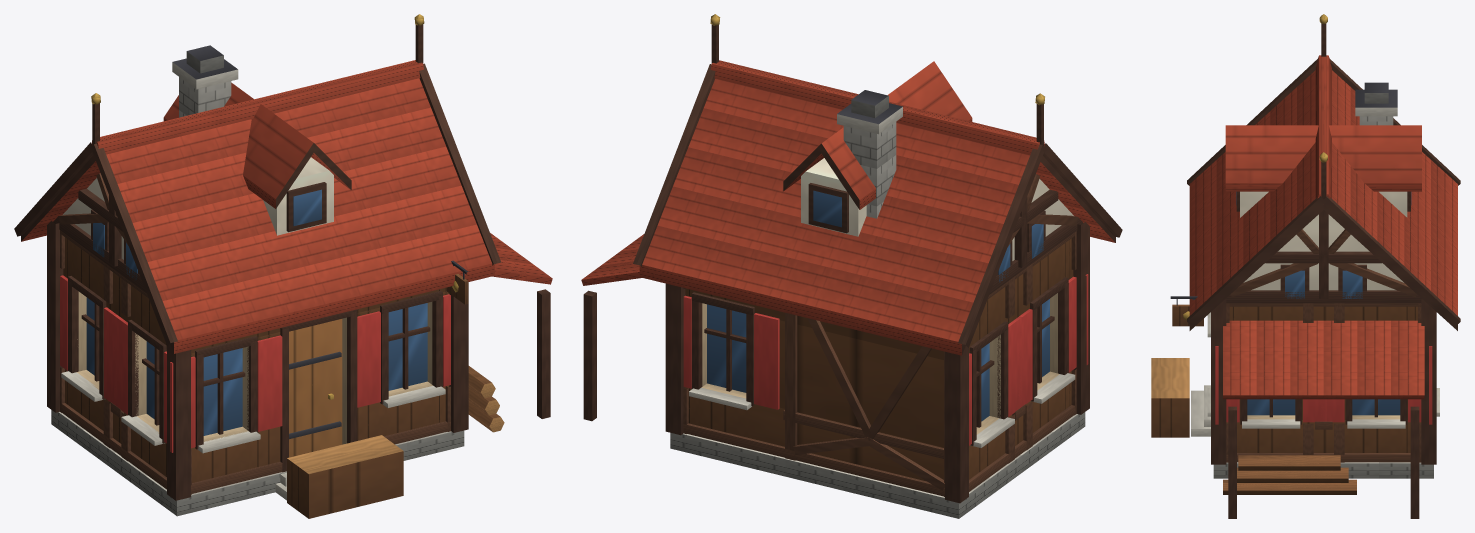
File: ind_workshop_01.glb
The picture shows the model from 3 angles, left to right: view 1: azimuth 30°, elevation 25°; view 2: azimuth 150°, elevation 25°; view 3: azimuth 270°, elevation 25°; orthographic projection. The views are drawn at different scales.
Parts seen in each view (by area): view 1: ind_workshop_01; view 2: ind_workshop_01; view 3: ind_workshop_01.
Part boxes in pixels (x1=…): ind_workshop_01: x1=14, y1=14, x2=552, y2=518; ind_workshop_01: x1=581, y1=14, x2=1122, y2=518; ind_workshop_01: x1=1151, y1=14, x2=1460, y2=518.
Bounding box in the file's own units: 8.51 × 7.68 × 6.44.
Materials: 1 (1 with a texture image).
